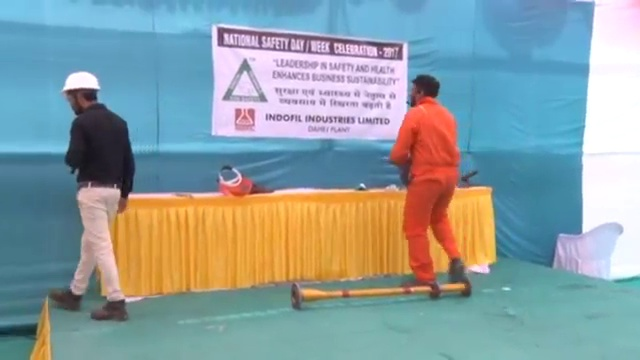helmet: (58, 69, 101, 95)
helmet_off: (409, 74, 441, 105)
helmet_on: (56, 69, 101, 118)
person: (54, 66, 136, 325), (396, 75, 469, 286)
